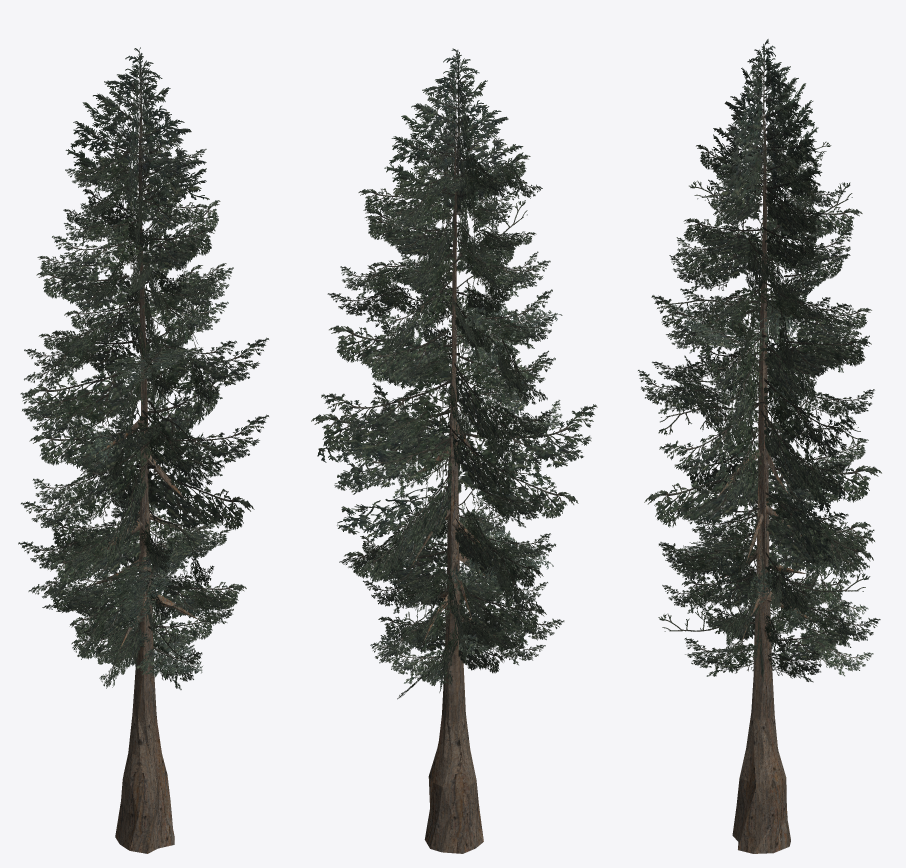
File: smrk_p2.glb
The picture shows the model from 3 angles, left to right: view 1: azimuth 30°, elevation 25°; view 2: azimuth 150°, elevation 25°; view 3: azimuth 270°, elevation 25°; orthographic projection.
Visible parts, largest first — view 1: Tree_Branches_01_Tree_Branches_01_0, Tree_Trunk_01.001_Tree_Trunk_01_0; view 2: Tree_Branches_01_Tree_Branches_01_0, Tree_Trunk_01.001_Tree_Trunk_01_0; view 3: Tree_Branches_01_Tree_Branches_01_0, Tree_Trunk_01.001_Tree_Trunk_01_0.
Part boxes in pixels (x1,y1,x2,y2): Tree_Branches_01_Tree_Branches_01_0: (18,47,268,689); Tree_Trunk_01.001_Tree_Trunk_01_0: (86,207,200,853); Tree_Branches_01_Tree_Branches_01_0: (311,48,597,699); Tree_Trunk_01.001_Tree_Trunk_01_0: (404,129,506,853); Tree_Branches_01_Tree_Branches_01_0: (638,39,881,682); Tree_Trunk_01.001_Tree_Trunk_01_0: (716,114,814,853).
Size of the model in its own units: 5.23 by 17.03 by 5.02.
2 materials, 2 textured.
